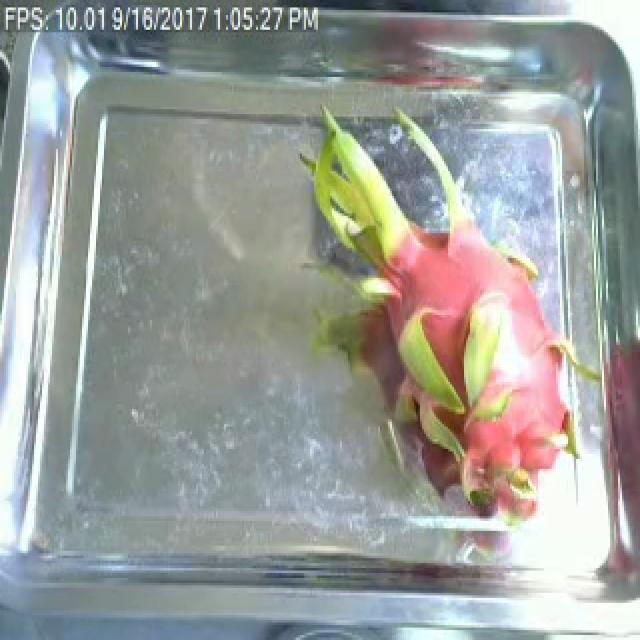fruit: (276, 109, 606, 538)
